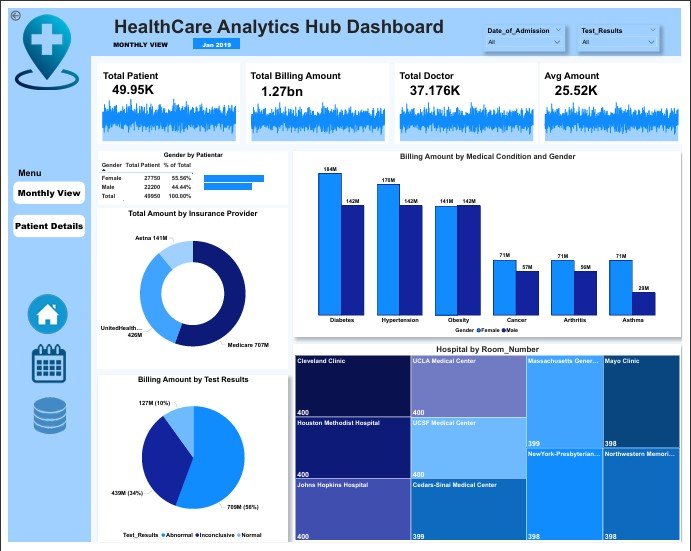

This screenshot's page, from the dashboard's own definition file:
{"tool":"powerbi","page":{"name":"Page 1","canvas":[2020,1600],"ordinal":0},"visuals":[{"type":"shape","box":[0,0,2018.7,142.7],"z":0},{"type":"shape","box":[266.1,165.4,428.7,241.5],"z":0,"group":"g2"},{"type":"shape","box":[713.2,165.4,428,241.5],"z":0,"group":"g4"},{"type":"shape","box":[1158.5,165.4,428,241.5],"z":0,"group":"g5"},{"type":"shape","box":[1594,165.4,428,241.5],"z":0,"group":"g7"},{"type":"group","id":"g1","title":"Group 3","box":[267.5,427.5,570,160],"z":0,"group":"g8"},{"type":"shape","box":[267.5,427.5,570,160],"z":0,"group":"g3"},{"type":"shape","box":[0,0,248,1600],"z":1000},{"type":"cardVisual","fields":{"Data":["Sum(Healthcare Data.Billing_Amount)"]},"box":[727.3,186.3,219.5,119.5],"z":1000,"group":"g4"},{"type":"cardVisual","fields":{"Data":["Count(Healthcare Data.Doctor)"]},"box":[1173.1,200.9,222,87.8],"z":1000,"group":"g5"},{"type":"cardVisual","fields":{"Data":["Healthcare Data.Avg_Amount"]},"box":[1608.6,200.9,222,87.8],"z":1000,"group":"g7"},{"type":"cardVisual","fields":{"Data":["CountNonNull(Healthcare Data.Patient_ID)"]},"box":[280.5,202.4,206.3,76],"z":1000,"group":"g2"},{"type":"pivotTable","title":"Gender by Patientar","fields":{"Values":["CountNonNull(Healthcare Data.Patient_ID)","Divide(CountNonNull(Healthcare Data.Patient_ID), ScopedEval(CountNonNull(Healthcare Data.Patient_ID), []))"],"Rows":["Healthcare Data.Gender"]},"box":[267.5,427.5,570,160],"z":1000,"group":"g8"},{"type":"textbox","box":[247.5,0,1125,95],"z":2000},{"type":"areaChart","fields":{"Y":["Sum(Healthcare Data.Billing_Amount)"],"Category":["Healthcare Data.Date_of_Admission"]},"box":[265.9,235.9,429.3,167.7],"z":2000,"group":"g2"},{"type":"areaChart","fields":{"Y":["Sum(Healthcare Data.Billing_Amount)"],"Category":["Healthcare Data.Date_of_Admission"]},"box":[713.2,248.8,429,154.3],"z":2000,"group":"g4"},{"type":"areaChart","fields":{"Y":["Sum(Healthcare Data.Billing_Amount)"],"Category":["Healthcare Data.Date_of_Admission"]},"box":[1158.5,248.8,429,154.3],"z":2000,"group":"g5"},{"type":"areaChart","fields":{"Y":["Sum(Healthcare Data.Billing_Amount)"],"Category":["Healthcare Data.Date_of_Admission"]},"box":[1594,248.8,429,154.3],"z":2000,"group":"g7"},{"type":"slicer","fields":{"Values":["Healthcare Data.Date_of_Admission"]},"box":[1422.5,47.5,247.5,80],"z":3000},{"type":"group","id":"g2","title":"Group 1","box":[265.9,165.4,429.3,241.5],"z":3000,"group":"g6"},{"type":"shape","title":"Total Patient","box":[281.6,184.5,190,40.2],"z":3000,"group":"g2"},{"type":"shape","title":"Total Doctor","box":[1171.3,186.2,249.3,33.2],"z":3000,"group":"g5"},{"type":"shape","title":"Avg Amount","box":[1606.8,186.2,249.3,33.2],"z":3000,"group":"g7"},{"type":"shape","title":"Total Billing Amount","box":[724.9,186.3,302.4,31.7],"z":3000,"group":"g4"},{"type":"group","id":"g3","title":"Group 1","box":[267.5,427.5,570,160],"z":3000,"group":"g1"},{"type":"image","box":[0,7.5,227.5,245],"z":4000},{"type":"group","id":"g4","title":"Group 1","box":[713.2,165.4,429,241.5],"z":4000,"group":"g6"},{"type":"slicer","fields":{"Values":["Healthcare Data.Test_Results"]},"box":[1705,47.5,247.5,80],"z":5000},{"type":"group","id":"g5","title":"Group 1","box":[1158.5,165.4,426.8,241.5],"z":5000,"group":"g6"},{"type":"group","id":"g6","title":"Group 2","box":[36,165.4,1984,825.1],"z":6000},{"type":"group","id":"g7","title":"Group 1","box":[1594,165.4,426,242],"z":6000,"group":"g6"},{"type":"actionButton","box":[0,0,100,40],"z":7000},{"type":"barChart","fields":{"Category":["Healthcare Data.Gender"],"Y":["CountNonNull(Healthcare Data.Patient_ID)"]},"box":[580.8,472.9,203.7,90.2],"z":7003,"group":"g1"},{"type":"group","id":"g8","title":"Group 4","box":[267.5,427.5,570,160],"z":8000},{"type":"clusteredColumnChart","title":"Billing Amount by Medical Condition and Gender","fields":{"Category":["Healthcare Data.Medical_Condition"],"Y":["Sum(Healthcare Data.Billing_Amount)"],"Series":["Healthcare Data.Gender"]},"box":[855,427.5,1162.5,557.5],"z":9000},{"type":"donutChart","title":"Total Amount by Insurance Provider","fields":{"Category":["Healthcare Data.Insurance_Provider"],"Y":["Sum(Healthcare Data.Billing_Amount)"]},"box":[265,600,572.5,482.5],"z":10000},{"type":"treemap","title":"Hospital by Room_Number","fields":{"Values":["Count(Healthcare Data.Room_Number)"],"Group":["Healthcare Data.Hospital"]},"box":[855,1007.5,1162.5,592.5],"z":11000},{"type":"pieChart","title":"Billing Amount by Test Results","fields":{"Category":["Healthcare Data.Test_Results"],"Y":["Sum(Healthcare Data.Billing_Amount)"]},"box":[267.5,1100,570,500],"z":12000},{"type":"shape","box":[302.9,71.4,182.9,71.4],"z":13000},{"type":"image","box":[36,842.5,160,148],"z":13005,"group":"g6"},{"type":"shape","box":[552.9,90,141.4,32.9],"z":14000},{"type":"shape","box":[0,450,125,85],"z":15000},{"type":"shape","box":[12.5,517.5,215,67.5],"z":16000},{"type":"shape","box":[12.5,617.5,215,67.5],"z":17000},{"type":"image","box":[44,1008,152,118],"z":18000},{"type":"image","box":[23.3,1123.3,200,200],"z":19000}]}

Visuals, with their boxes in screenshot pixels (x1, y1, x2, y2), scaled from the page's 2020x1600 canvas onto the 691x551 screenshot:
shape: [left=0, top=0, right=690, bottom=49]
shape: [left=91, top=57, right=238, bottom=140]
shape: [left=244, top=57, right=390, bottom=140]
shape: [left=396, top=57, right=543, bottom=140]
shape: [left=545, top=57, right=690, bottom=140]
"Group 3" group: [left=92, top=147, right=286, bottom=202]
shape: [left=92, top=147, right=286, bottom=202]
shape: [left=0, top=0, right=85, bottom=550]
cardVisual - Sum(Healthcare Data.Billing_Amount): [left=249, top=64, right=324, bottom=105]
cardVisual - Count(Healthcare Data.Doctor): [left=401, top=69, right=477, bottom=99]
cardVisual - Healthcare Data.Avg_Amount: [left=550, top=69, right=626, bottom=99]
cardVisual - CountNonNull(Healthcare Data.Patient_ID): [left=96, top=70, right=167, bottom=96]
"Gender by Patientar" pivotTable: [left=92, top=147, right=286, bottom=202]
textbox: [left=85, top=0, right=470, bottom=33]
areaChart - Sum(Healthcare Data.Billing_Amount) x Healthcare Data.Date_of_Admission: [left=91, top=81, right=238, bottom=139]
areaChart - Sum(Healthcare Data.Billing_Amount) x Healthcare Data.Date_of_Admission: [left=244, top=86, right=391, bottom=139]
areaChart - Sum(Healthcare Data.Billing_Amount) x Healthcare Data.Date_of_Admission: [left=396, top=86, right=543, bottom=139]
areaChart - Sum(Healthcare Data.Billing_Amount) x Healthcare Data.Date_of_Admission: [left=545, top=86, right=690, bottom=139]
slicer - Healthcare Data.Date_of_Admission: [left=487, top=16, right=571, bottom=44]
"Group 1" group: [left=91, top=57, right=238, bottom=140]
"Total Patient" shape: [left=96, top=64, right=161, bottom=77]
"Total Doctor" shape: [left=401, top=64, right=486, bottom=76]
"Avg Amount" shape: [left=550, top=64, right=635, bottom=76]
"Total Billing Amount" shape: [left=248, top=64, right=351, bottom=75]
"Group 1" group: [left=92, top=147, right=286, bottom=202]
image: [left=0, top=3, right=78, bottom=87]
"Group 1" group: [left=244, top=57, right=391, bottom=140]
slicer - Healthcare Data.Test_Results: [left=583, top=16, right=668, bottom=44]
"Group 1" group: [left=396, top=57, right=542, bottom=140]
"Group 2" group: [left=12, top=57, right=690, bottom=341]
"Group 1" group: [left=545, top=57, right=690, bottom=140]
actionButton: [left=0, top=0, right=34, bottom=14]
barChart - Healthcare Data.Gender x CountNonNull(Healthcare Data.Patient_ID): [left=199, top=163, right=268, bottom=194]
"Group 4" group: [left=92, top=147, right=286, bottom=202]
"Billing Amount by Medical Condition and Gender" clusteredColumnChart: [left=292, top=147, right=690, bottom=339]
"Total Amount by Insurance Provider" donutChart: [left=91, top=207, right=286, bottom=373]
"Hospital by Room_Number" treemap: [left=292, top=347, right=690, bottom=550]
"Billing Amount by Test Results" pieChart: [left=92, top=379, right=286, bottom=550]
shape: [left=104, top=25, right=166, bottom=49]
image: [left=12, top=290, right=67, bottom=341]
shape: [left=189, top=31, right=238, bottom=42]
shape: [left=0, top=155, right=43, bottom=184]
shape: [left=4, top=178, right=78, bottom=201]
shape: [left=4, top=213, right=78, bottom=236]
image: [left=15, top=347, right=67, bottom=388]
image: [left=8, top=387, right=76, bottom=456]
